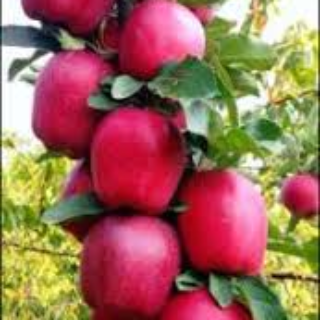tao: (87, 101, 190, 214), (78, 214, 182, 316), (179, 165, 269, 277)
